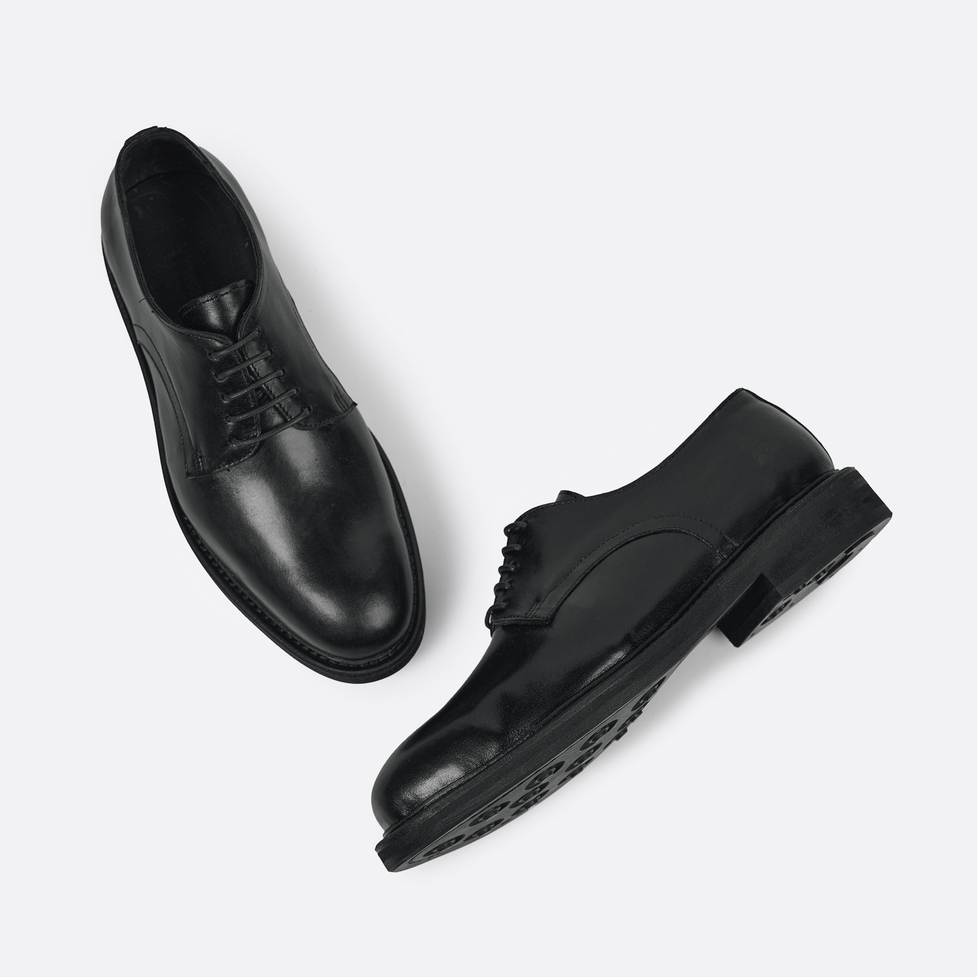derby: (370, 383, 890, 875), (96, 123, 429, 687)
